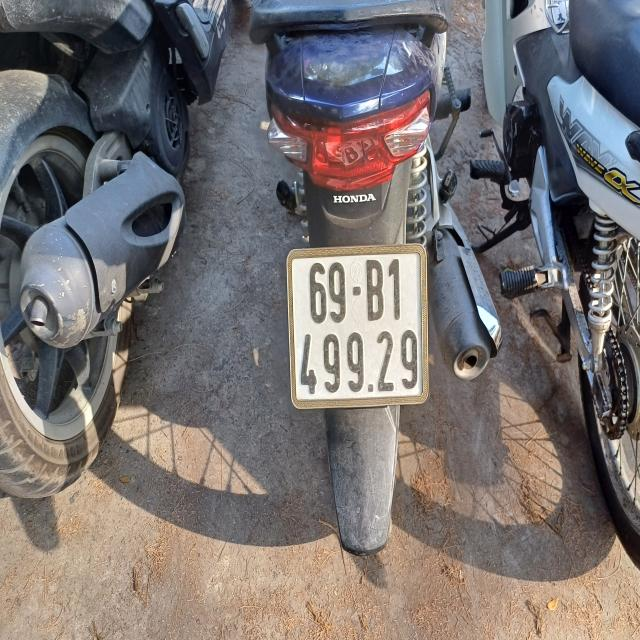1: (388, 254, 404, 322)
2: (375, 326, 394, 392)
4: (298, 333, 319, 398)
6: (310, 261, 327, 321)
9: (328, 258, 348, 324), (399, 324, 419, 390), (322, 331, 342, 394), (345, 328, 364, 394)
B: (365, 256, 386, 324)
